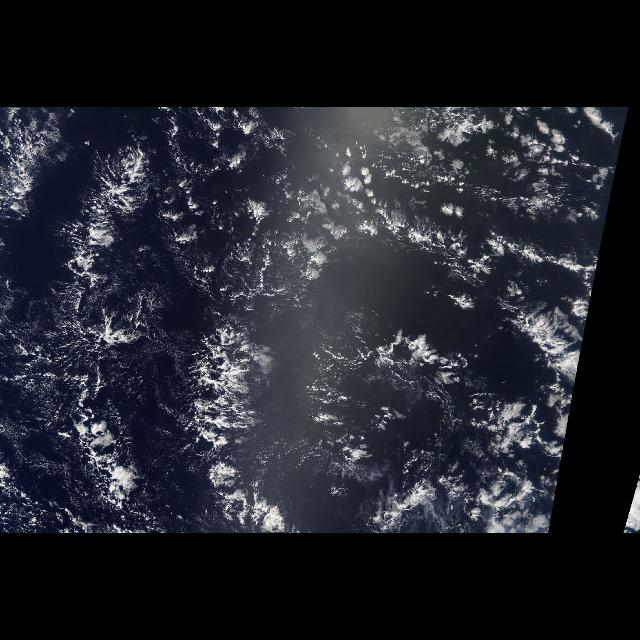Fish: (31, 124, 315, 534)
